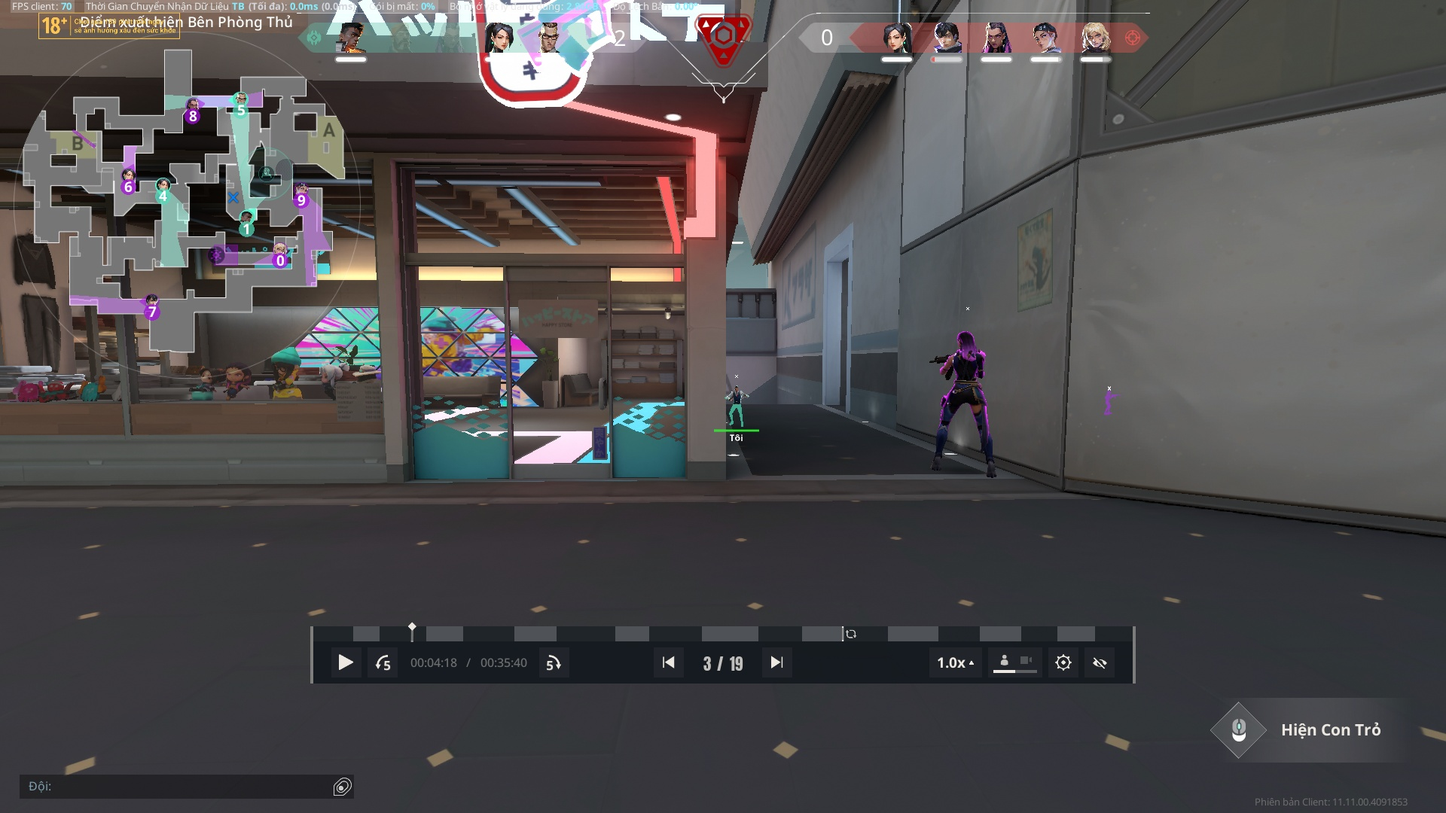body: (948, 348, 985, 392)
head: (956, 330, 975, 352)
